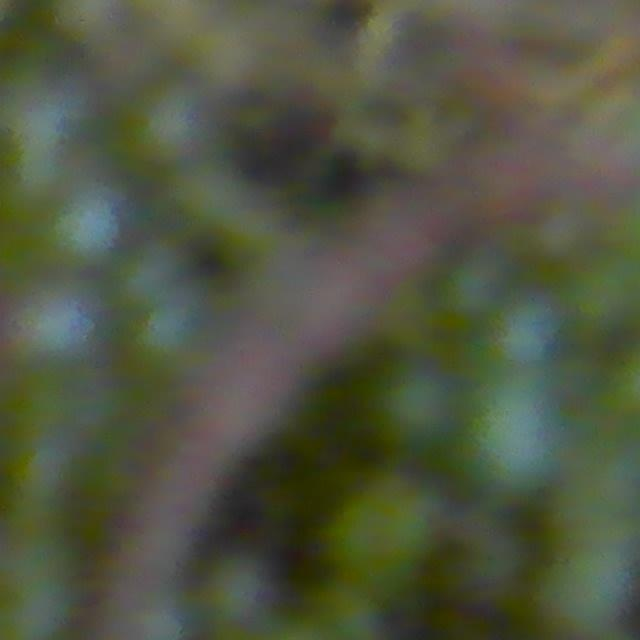SeaGrape: (324, 472, 446, 590), (461, 373, 567, 492), (537, 539, 640, 639), (33, 186, 130, 276), (125, 80, 216, 169), (374, 363, 460, 450), (18, 281, 102, 363), (200, 550, 281, 631), (0, 561, 81, 640), (564, 250, 640, 334), (491, 293, 563, 369), (440, 250, 510, 320)
